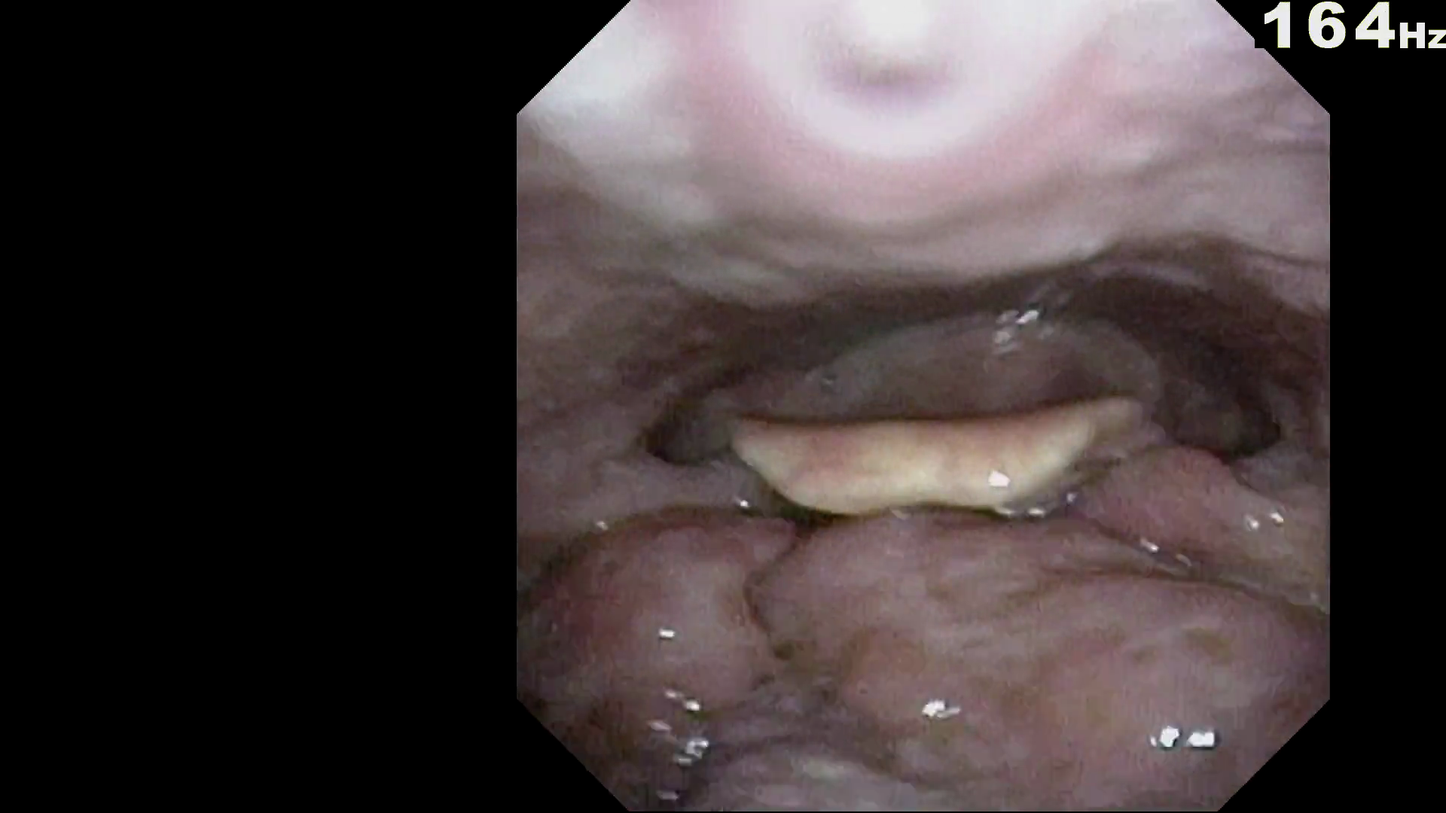epiglottis: (688, 435, 1189, 591)
trachea: (933, 445, 1051, 563)
